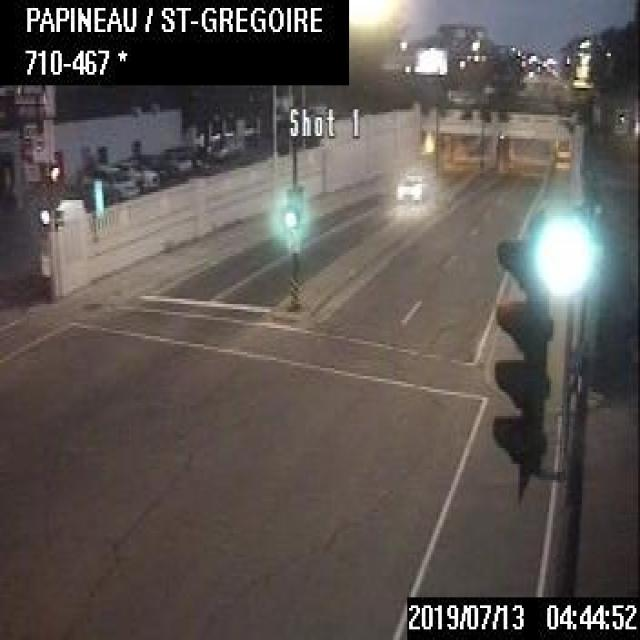vehicle: (78, 162, 138, 198), (124, 152, 174, 187), (121, 160, 158, 190), (394, 171, 424, 203)
